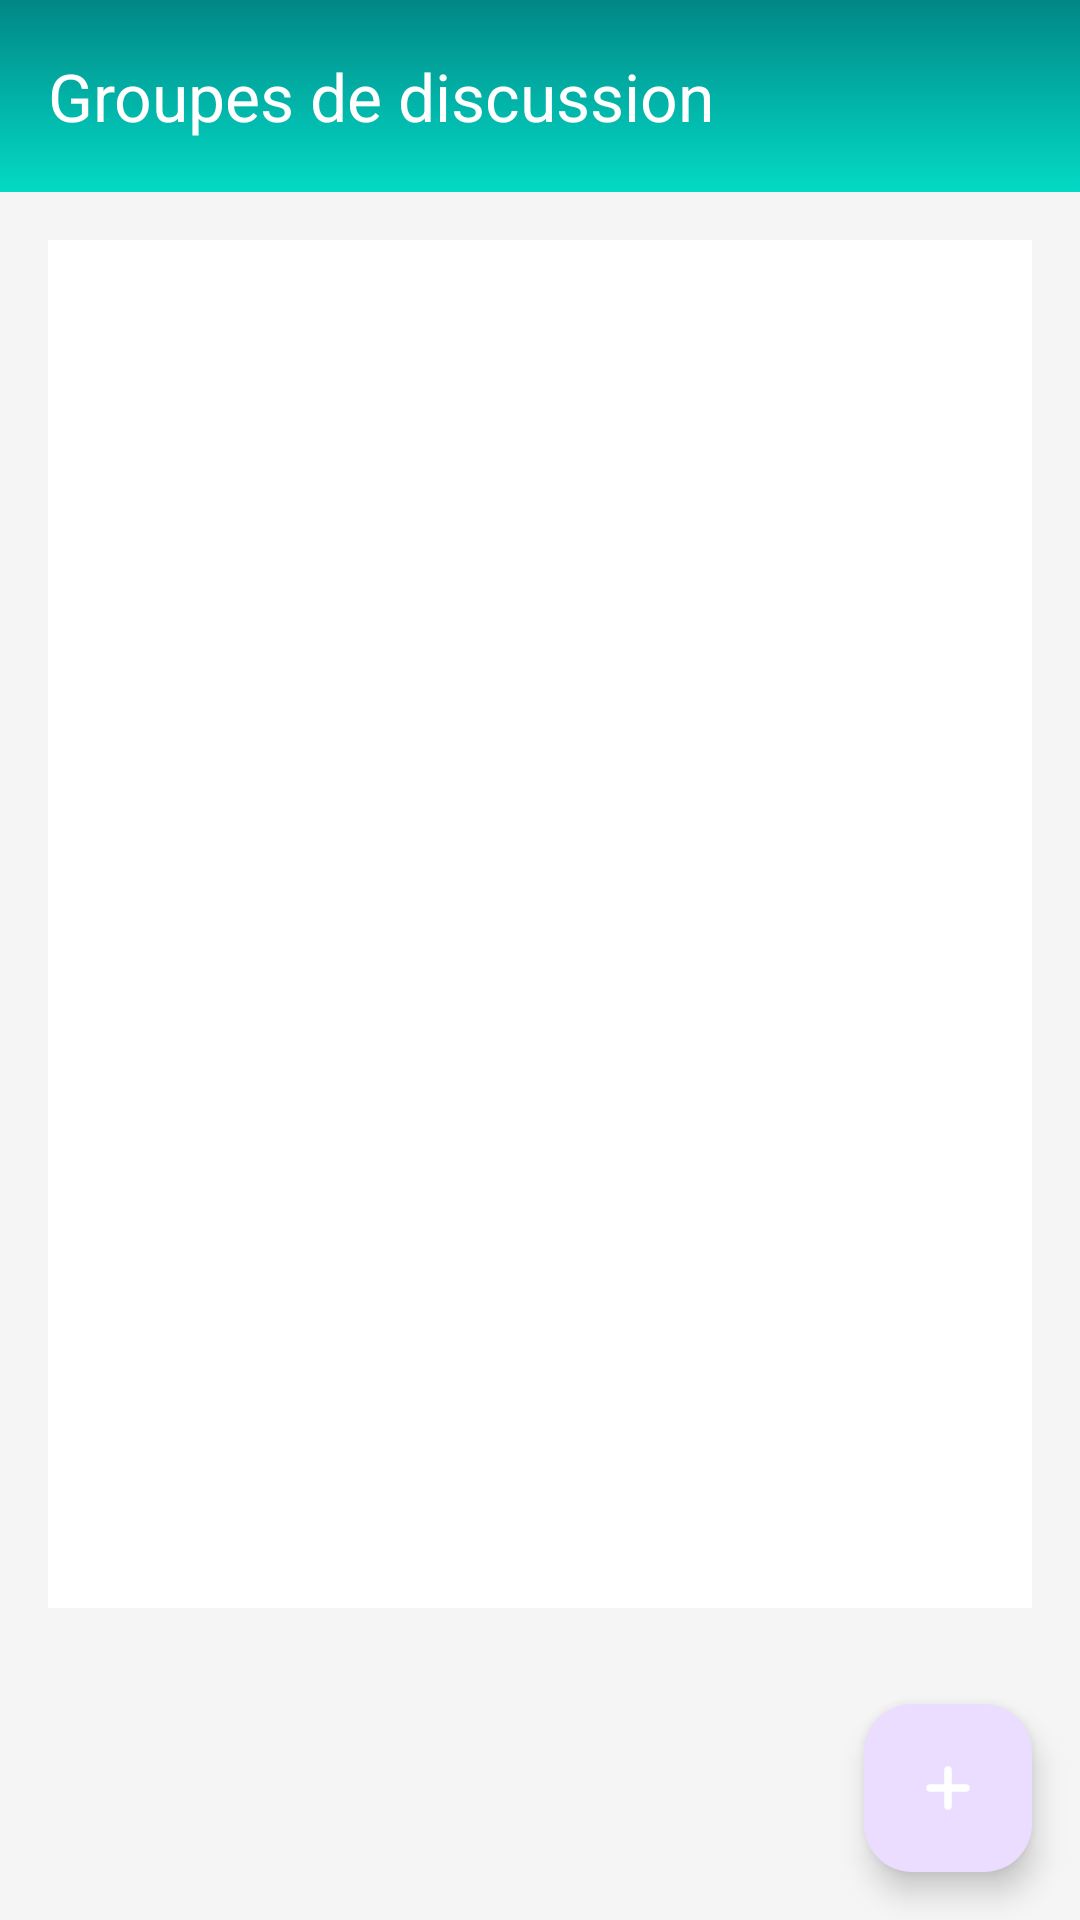

Icon bounding boxes for this 1080px×1920px phone screenshot, format (x1,y1,x2,y2):
Nouveau groupe: (864,1704,1032,1872)
